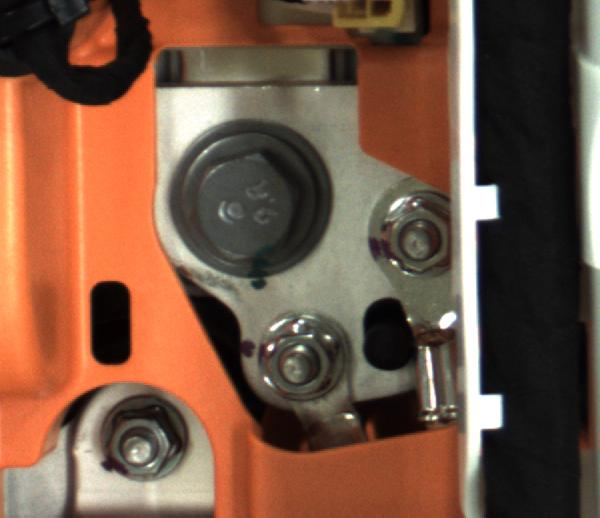nut_b: (161, 112, 342, 283)
screw_s: (248, 303, 341, 404), (368, 197, 458, 278), (102, 410, 192, 483)
